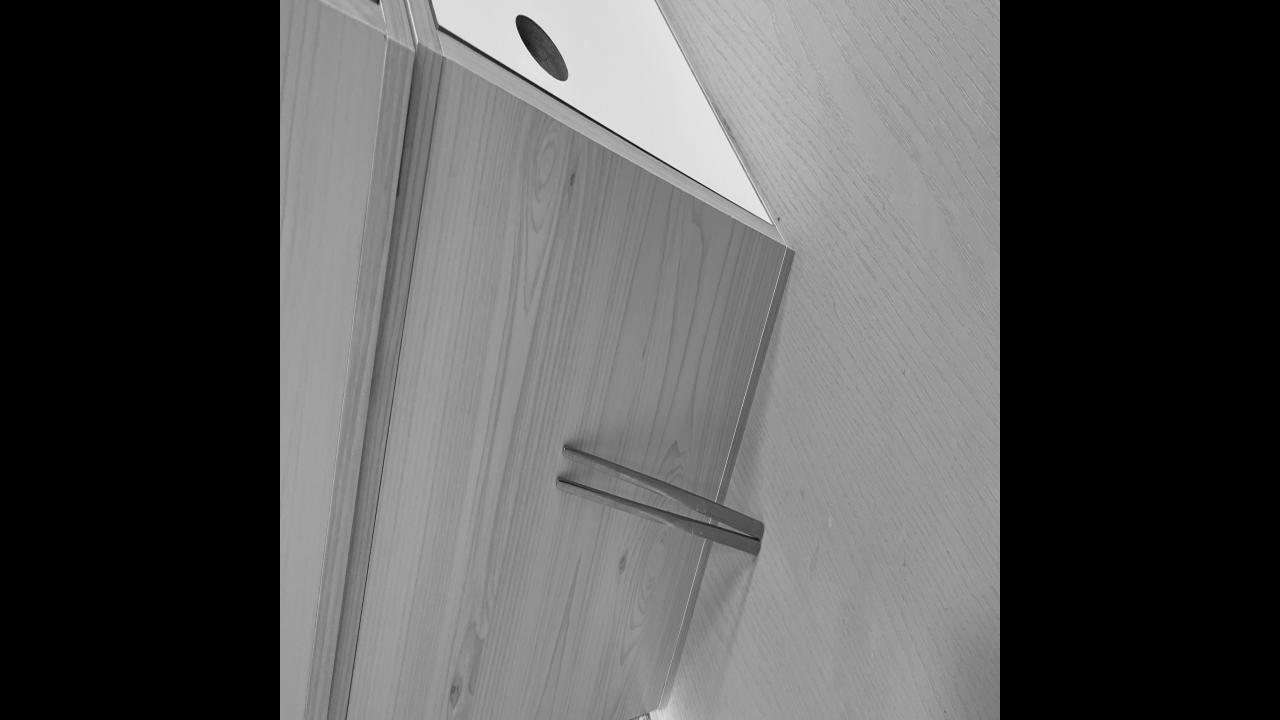chopstick: (560, 441, 764, 559)
